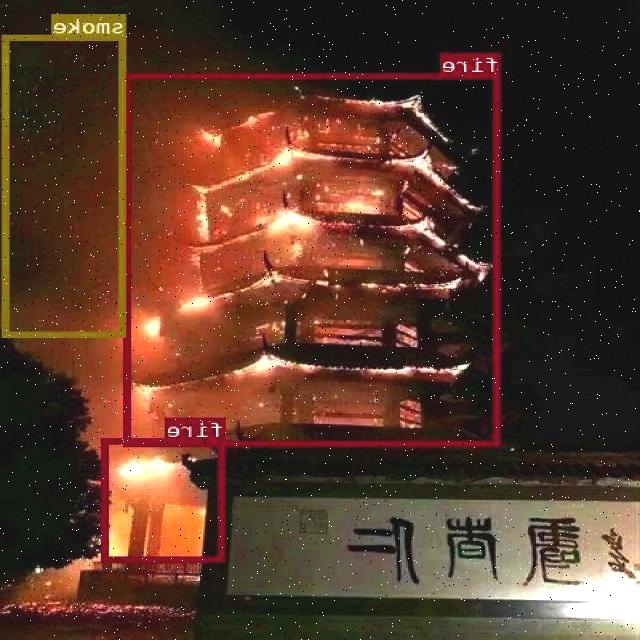fire: (126, 72, 502, 445), (102, 437, 226, 561)
smoke: (4, 35, 128, 336)
